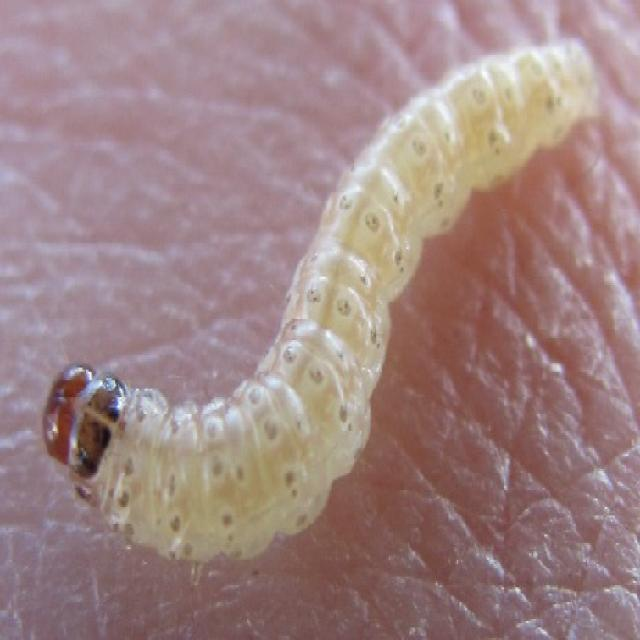cornborer-Larva-: (38, 33, 610, 568)
